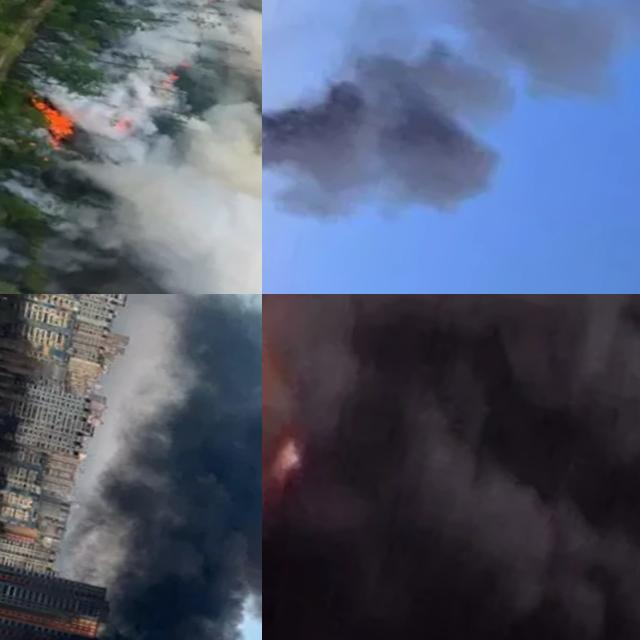smoke: (262, 294, 640, 640), (29, 294, 262, 640), (13, 0, 262, 294), (262, 32, 508, 234)
